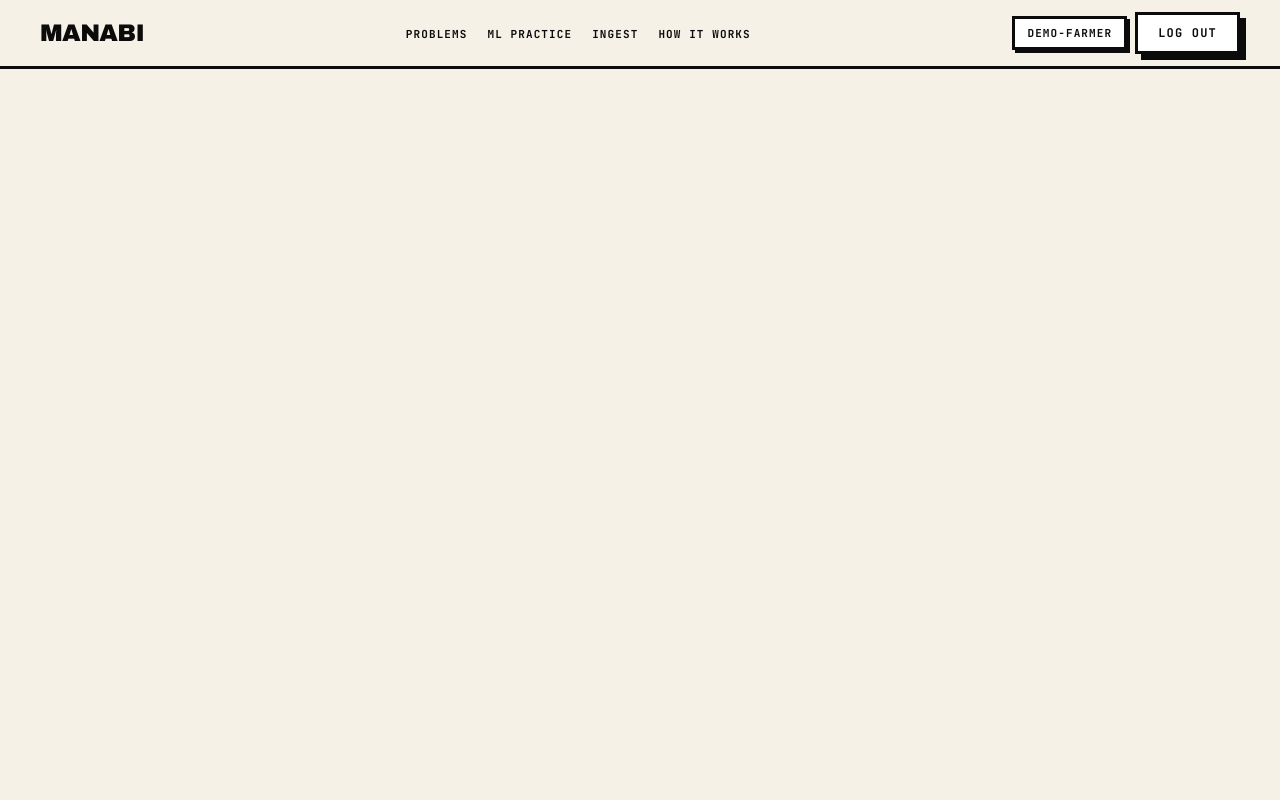
Test: Nav › logs out, posts to the API, and returns to the logged-out nav
Click the button "Log out" at (1188,33), box [1135, 12, 1240, 54]
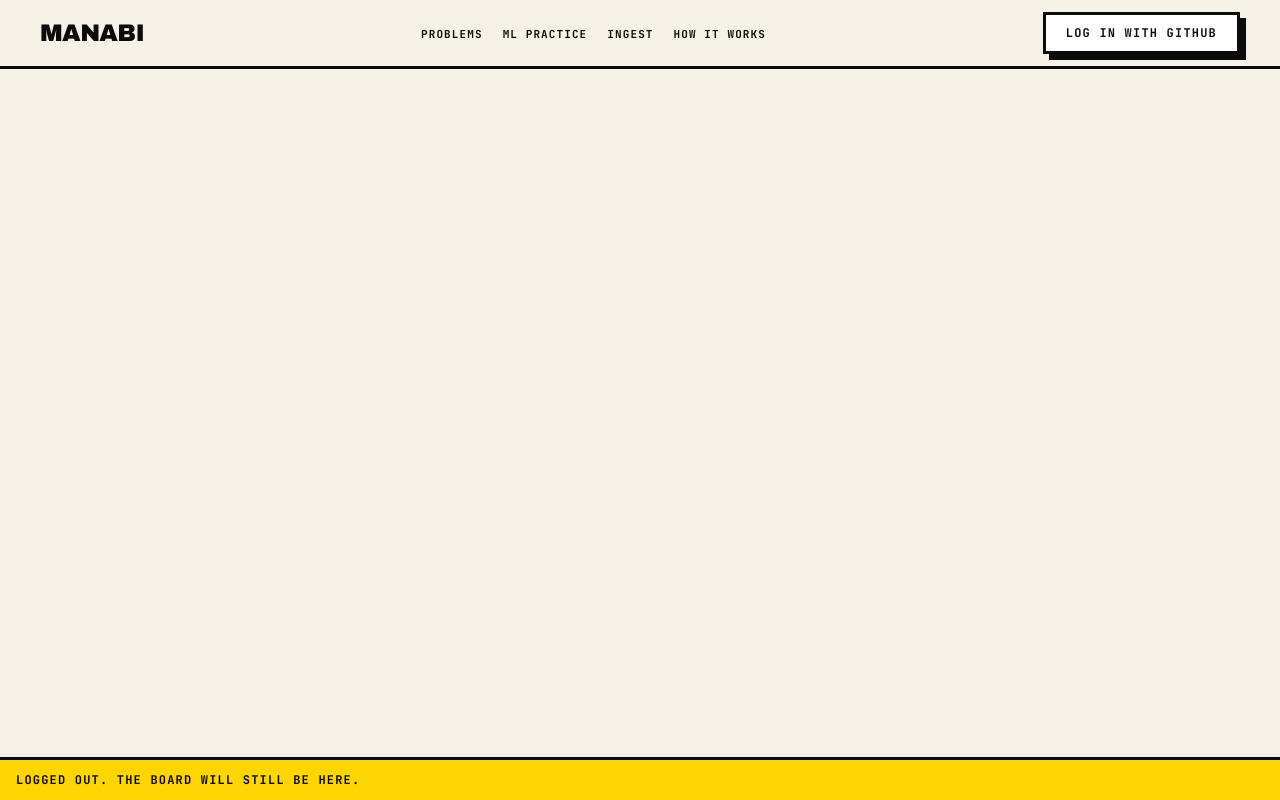
Now the button "Log in with GitHub" is shown, box [1043, 12, 1240, 54]
Now the text "Logged out. The board will still be here." is shown, box [0, 757, 1279, 799]
